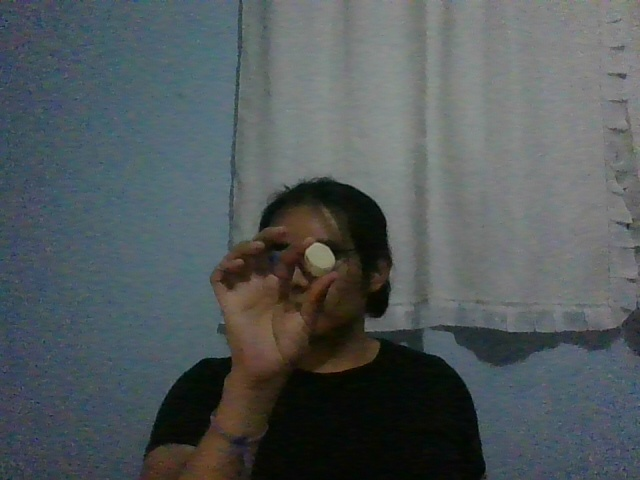goma: (305, 242, 336, 277)
